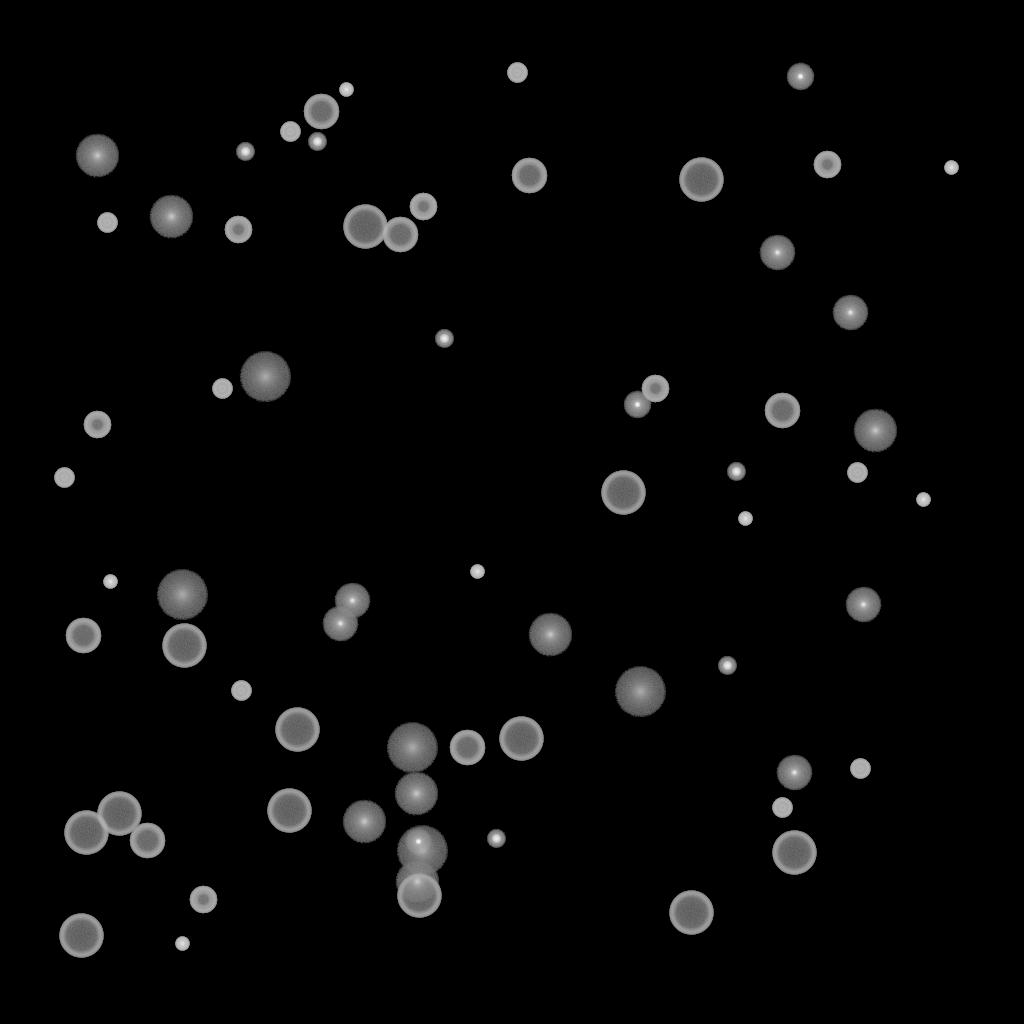depth:-10: (786, 63, 814, 91), (404, 828, 432, 856), (623, 391, 651, 419)
depth:-20: (308, 133, 326, 151), (487, 830, 505, 848), (727, 463, 745, 481), (718, 657, 736, 675), (236, 143, 254, 161), (435, 330, 453, 348)
depth:-30: (944, 161, 958, 175), (470, 565, 484, 579), (339, 83, 353, 97), (738, 512, 752, 526), (103, 575, 117, 589), (916, 493, 930, 507), (175, 937, 189, 951)
depth:-40: (772, 798, 792, 818), (97, 213, 117, 233), (212, 379, 232, 399), (231, 681, 251, 701), (280, 122, 300, 142), (850, 759, 870, 779), (507, 63, 527, 83), (54, 468, 74, 488), (847, 463, 867, 483)
depth:-50: (83, 411, 111, 439), (641, 375, 669, 403), (224, 216, 252, 244), (409, 193, 437, 221), (189, 886, 217, 914), (813, 151, 841, 179)
depth:-60: (382, 217, 418, 253), (129, 823, 165, 859), (449, 730, 485, 766), (764, 393, 800, 429), (303, 94, 339, 130), (65, 618, 101, 654), (511, 158, 547, 194)
depth:-70: (601, 471, 645, 515), (343, 205, 387, 249), (772, 831, 816, 875), (267, 789, 311, 833), (397, 874, 441, 918), (275, 708, 319, 752), (64, 811, 108, 855), (499, 717, 543, 761), (162, 624, 206, 668), (679, 158, 723, 202), (669, 891, 713, 935), (97, 792, 141, 836), (59, 914, 103, 958)
depth:0: (776, 755, 812, 791), (322, 606, 358, 642), (334, 583, 370, 619), (832, 295, 868, 331), (759, 235, 795, 271), (845, 587, 881, 623)
depth:10: (853, 409, 897, 453), (75, 134, 119, 178), (342, 800, 386, 844), (528, 613, 572, 657), (394, 772, 438, 816), (149, 195, 193, 239), (395, 860, 439, 904)
depth:20: (614, 667, 666, 717), (239, 352, 291, 402), (396, 826, 448, 876), (156, 570, 208, 620), (386, 723, 438, 773)
